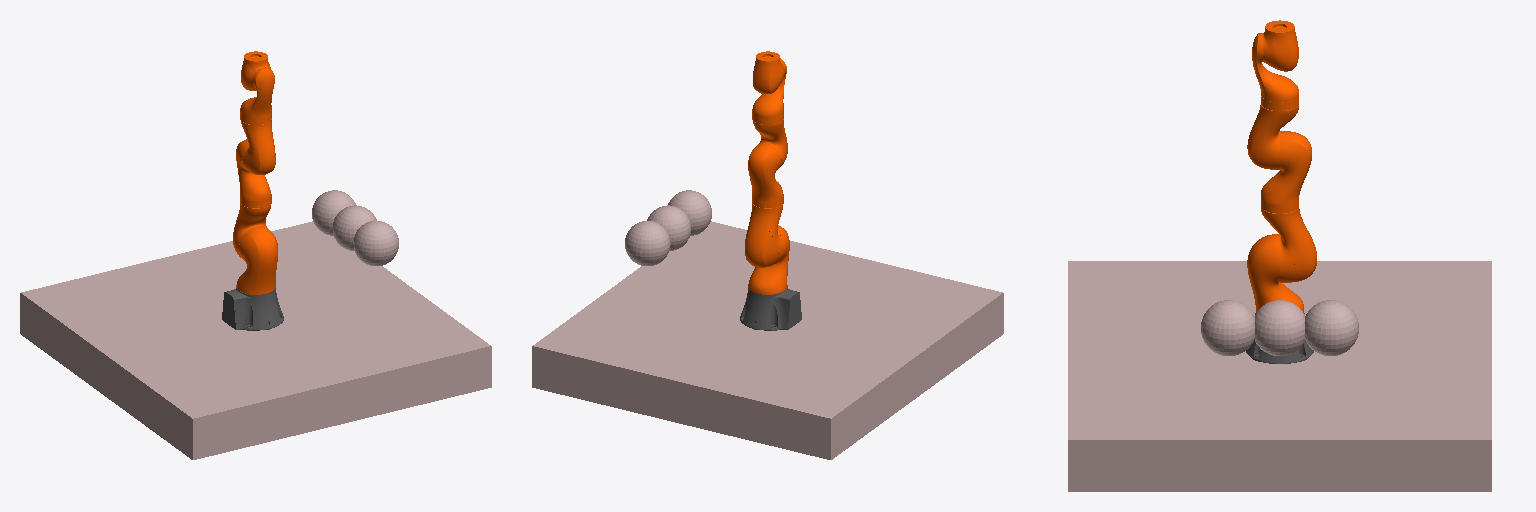
The robot description file, URDF, robot "KUKAiiwa14":
<?xml version="1.0"?>
<robot xmlns:xacro="http://www.ros.org/wiki/xacro" name="KUKAiiwa14">
  <mujoco>
    <compiler meshdir="../meshes/kuka" balanceinertia="false" discardvisual="true"/>
  </mujoco>
  <material name="Black">
    <color rgba="0.0 0.0 0.0 1.0"/>
  </material>
  <material name="Blue">
    <color rgba="0.0 0.0 0.8 1.0"/>
  </material>
  <material name="Green">
    <color rgba="0.0 0.8 0.0 1.0"/>
  </material>
  <material name="Grey">
    <color rgba="0.4 0.4 0.4 1.0"/>
  </material>
  <material name="Orange">
    <color rgba="1.0 0.4235294117647059 0.0392156862745098 1.0"/>
  </material>
  <material name="Brown">
    <color rgba="0.8705882352941177 0.8117647058823529 0.7647058823529411 1.0"/>
  </material>
  <material name="Red">
    <color rgba="0.8 0.0 0.0 1.0"/>
  </material>
  <material name="White">
    <color rgba="1.0 1.0 1.0 1.0"/>
  </material>
  <!-- Fix to world just for testing -->
  <link name="world"/>
  <!--joint between WORLD and BASE-->
  <joint name="A0" type="fixed">
    <origin rpy="0 0 0" xyz="0 0 0"/>
    <parent link="world"/>
    <child link="iiwa_base"/>
  </joint>
  <!-- BASE -->
  <link name="iiwa_base">
    <inertial>
      <origin rpy="0 0 0" xyz="0 0 0"/>
      <mass value="5"/>
      <inertia ixx="0.05" ixy="0" ixz="0" iyy="0.06" iyz="0" izz="0.03"/>
    </inertial>
    <visual>
      <origin rpy="0 0 0" xyz="0 0 0"/>
      <geometry>
        <mesh filename="package://meshes/kuka/iiwa_base.stl"/>
      </geometry>
      <material name="Grey"/>
    </visual>

 <collision>
	<origin xyz="0 0 0" rpy="0 0 0"/>
	<geometry>
	  <sphere radius=".09"/>
	</geometry>
      </collision>

  </link>
  <!-- joint between base and link1 -->
  <joint name="A1" type="revolute">
    <origin rpy="0.0 0.0 0.0" xyz="0.00000 0.00000 0.15750"/>
    <parent link="iiwa_base"/>
    <child link="L1"/>
    <axis xyz="0 0 1"/>
    <limit effort="320" lower="-2.96706" upper="2.96706" velocity="1.48353"/>
  </joint>
  <transmission name="iiwa_tran_1">
    <robotNamespace>/KUKAiiwa14</robotNamespace>
    <type>transmission_interface/SimpleTransmission</type>
    <joint name="A1">
      <hardwareInterface>PositionJointInterface</hardwareInterface>
    </joint>
    <actuator name="iiwa_motor_1">
      <hardwareInterface>PositionJointInterface</hardwareInterface>
      <mechanicalReduction>1</mechanicalReduction>
    </actuator>
  </transmission>
  <!-- LINK 1-->
  <link name="L1">
    <inertial>
      <origin xyz="0.00000 0.00000 0.00000"/>
      <mass value="3.94781"/>
      <inertia ixx="0.00455" ixy="0.00000" ixz="-0.00000" iyy="0.00454" iyz="-0.00001" izz="0.00029"/>
    </inertial>
    <visual>
      <origin rpy="0 0 0" xyz="0 0 0"/>
      <geometry>
        <mesh filename="package://meshes/kuka/iiwa_link_1.stl"/>
      </geometry>
      <material name="Orange"/>
    </visual>


 <collision>
	<origin xyz="0 0 0" rpy="0 0 0"/>
	<geometry>
	  <sphere radius=".05"/>
	</geometry>
      </collision>






  </link>
  <!-- joint between link1 and link2 -->
  <joint name="A2" type="revolute">
    <origin rpy="2.3561944901923457 -1.5707962635746238 2.3561944901923457" xyz="0.00000 0.00000 0.20250"/>
    <parent link="L1"/>
    <child link="L2"/>
    <axis xyz="0 0 1"/>
    <limit effort="320" lower="-2.0944" upper="2.0944" velocity="1.48353"/>
    <!-- <safety_controller soft_lower_limit="${-118 * PI / 180}"
                          soft_upper_limit="${118 * PI / 180}"
                          k_position="${safety_controller_k_pos}"
                          k_velocity="${safety_controller_k_vel}"/> 
      <dynamics damping="${joint_damping}"/> -->
  </joint>
  <!-- LINK 2-->
  <link name="L2">
    <inertial>
      <origin rpy="0 0 0" xyz="0.0003 0.059 0.042"/>
      <mass value="4.50275"/>
      <inertia ixx="0.00032" ixy="0" ixz="0" iyy="0.00010" iyz="0" izz="0.00042"/>
    </inertial>
    <visual>
      <origin rpy="0 0 0" xyz="0 0 0"/>
      <geometry>
        <mesh filename="package://meshes/kuka/iiwa_link_2.stl"/>
      </geometry>
      <material name="Orange"/>
    </visual>


 <collision>
	<origin xyz="0 0 0" rpy="0 0 0"/>
	<geometry>
	  <sphere radius=".05"/>
	</geometry>
      </collision>





  </link>
  <!-- joint between link2 and link3 -->
  <joint name="A3" type="revolute">
    <origin rpy="1.5707963267948948 -4.371139000186238E-8 1.5707963705062866" xyz="0.20450 0.00000 0.00000"/>
    <parent link="L2"/>
    <child link="L3"/>
    <axis xyz="0 0 1"/>
    <limit effort="176" lower="-2.96706" upper="2.96706" velocity="1.74533"/>
    <!-- <safety_controller soft_lower_limit="${-168 * PI / 180}"
                          soft_upper_limit="${168 * PI / 180}"
                          k_position="${safety_controller_k_pos}"
                          k_velocity="${safety_controller_k_vel}"/> 
      <dynamics damping="${joint_damping}"/> -->
  </joint>
  <!-- LINK 3-->
  <link name="L3">
    <inertial>
      <origin rpy="0 0 0" xyz="0 0.03 0.13"/>
      <mass value="2.45520"/>
      <inertia ixx="0.00223" ixy="-0.00005" ixz="0.00007" iyy="0.00219" iyz="0.00007" izz="0.00073"/>
    </inertial>
    <visual>
      <origin rpy="0 0 0" xyz="0 0 0"/>
      <geometry>
        <mesh filename="package://meshes/kuka/iiwa_link_3.stl"/>
      </geometry>
      <material name="Orange"/>
    </visual>



      <collision>
	<!-- <origin xyz="0 0 0.2" rpy="0 0 0"/> -->
	<geometry>
	  <!--mesh filename="package://lwr_description/meshes/convex/arm_segment_b_convex.stl"/-->
	  <sphere radius="0.05"/>
	</geometry>
      </collision>
  </link>
  <!-- joint between link3 and link4 -->
  <joint name="A4" type="revolute">
    <origin rpy="1.5707963705062866 -0.0 0.0" xyz="0.00000 0.00000 0.21550"/>
    <parent link="L3"/>
    <child link="L4"/>
    <axis xyz="0 0 1"/>
    <limit effort="176" lower="-2.0944" upper="2.0944" velocity="1.309"/>
    <!-- <safety_controller soft_lower_limit="${-118 * PI / 180}"
                          soft_upper_limit="${118 * PI / 180}"
                          k_position="${safety_controller_k_pos}"
                          k_velocity="${safety_controller_k_vel}"/> 
      <dynamics damping="${joint_damping}"/> -->
  </joint>
  <!-- LINK 4-->
  <link name="L4">
    <inertial>
      <origin rpy="0 0 0" xyz="0 0.067 0.034"/>
      <mass value="2.61155"/>
      <inertia ixx="0.03844" ixy="0.00088" ixz="-0.00112" iyy="0.01144" iyz="-0.00111" izz="0.04958"/>
    </inertial>
    <visual>
      <origin rpy="0 0 0" xyz="0 0 0"/>
      <geometry>
        <mesh filename="package://meshes/kuka/iiwa_link_4.stl"/>
      </geometry>
      <material name="Orange"/>
    </visual>

 <collision>
	<origin xyz="0 0 0" rpy="0 0 0"/>
	<geometry>
	  <sphere radius=".05"/>
	</geometry>
      </collision>




  </link>
  <!-- joint between link4 and link5 -->
  <joint name="A5" type="revolute">
    <origin rpy="-1.5707963705062866 0.0 -0.0" xyz="0.00000 0.18450 0.00000"/>
    <parent link="L4"/>
    <child link="L5"/>
    <axis xyz="0 0 1"/>
    <limit effort="110" lower="-2.96706" upper="2.96706" velocity="2.26893"/>
    <!-- <safety_controller soft_lower_limit="${-168 * PI / 180}"
                          soft_upper_limit="${168 * PI / 180}"
                          k_position="${safety_controller_k_pos}"
                          k_velocity="${safety_controller_k_vel}"/> 
      <dynamics damping="${joint_damping}"/> -->
  </joint>
  <!-- LINK 5-->
  <link name="L5">
    <inertial>
      <origin rpy="0 0 0" xyz="0.0001 0.021 0.076"/>
      <mass value="3.41000"/>
      <inertia ixx="0.00277" ixy="-0.00001" ixz="0.00001" iyy="0.00284" iyz="0" izz="0.00012"/>
    </inertial>
    <visual>
      <origin rpy="0 0 0" xyz="0 0 0"/>
      <geometry>
        <mesh filename="package://meshes/kuka/iiwa_link_5.stl"/>
      </geometry>
      <material name="Orange"/>
    </visual>


 <collision>
	<origin xyz="0 0 0" rpy="0 0 0"/>
	<geometry>
	  <sphere radius=".05"/>
	</geometry>
      </collision>


  </link>
  <!-- joint between link5 and link6 -->
  <joint name="A6" type="revolute">
    <origin rpy="2.3561944901923457 -1.5707962635746238 2.3561944901923457" xyz="0.00000 -0.06070 0.21550"/>
    <parent link="L5"/>
    <child link="L6"/>
    <axis xyz="0 0 1"/>
    <limit effort="40" lower="-2.0944" upper="2.0944" velocity="2.35619"/>
    <!-- <safety_controller soft_lower_limit="${-118 * PI / 180}"
                          soft_upper_limit="${118 * PI / 180}"
                          k_position="${safety_controller_k_pos}"
                          k_velocity="${safety_controller_k_vel}"/> 
      <dynamics damping="${joint_damping}"/> -->
  </joint>
  <!-- LINK 6-->
  <link name="L6">
    <inertial>
      <origin rpy="0 0 0" xyz="0 0.0006 0.0004"/>
      <mass value="3.38795"/>
      <inertia ixx="0.00050" ixy="-0.00005" ixz="-0.00003" iyy="0.00281" iyz="-0.00004" izz="0.00232"/>
    </inertial>
    <visual>
      <origin rpy="0 0 0" xyz="0 0 0"/>
      <geometry>
        <mesh filename="package://meshes/kuka/iiwa_link_6.stl"/>
      </geometry>
      <material name="Orange"/>
    </visual>


 <collision>
	<origin xyz="0 0 0" rpy="0 0 0"/>
	<geometry>
	  <sphere radius=".05"/>
	</geometry>
      </collision>


  </link>
  <!-- joint between link6 and link7 -->
  <joint name="A7" type="revolute">
    <origin rpy="1.5707963267948948 -4.371139000186238E-8 1.5707963705062866" xyz="0.08100 0.00000 0.06070"/>
    <parent link="L6"/>
    <child link="L7"/>
    <axis xyz="0 0 1"/>
    <limit effort="40" lower="-3.05433" upper="3.05433" velocity="2.35619"/>
    <!-- <safety_controller soft_lower_limit="${-173 * PI / 180}"
                          soft_upper_limit="${173 * PI / 180}"
                          k_position="${safety_controller_k_pos}"
                          k_velocity="${safety_controller_k_vel}"/> 
      <dynamics damping="${joint_damping}"/> -->
  </joint>
  <!-- LINK 7-->
  <link name="L7">
    <inertial>
      <origin rpy="0 0 0" xyz="0 0 0.02"/>
      <mass value="0.35432"/>
      <inertia ixx="0.00795" ixy="0.00022" ixz="-0.00029" iyy="0.01083" iyz="-0.00029" izz="0.00294"/>
    </inertial>
    <visual>
      <origin rpy="0 0 0" xyz="0 0 0"/>
      <geometry>
        <mesh filename="package://meshes/kuka/iiwa_link_7.stl"/>
      </geometry>
      <material name="Grey"/>
    </visual>

 <collision>
	<origin xyz="0 0 0" rpy="0 0 0"/>
	<geometry>
	  <sphere radius=".05"/>
	</geometry>
      </collision>

  </link>
  <!-- EE -->
  <joint name="EE" type="fixed">
    <parent link="L7"/>
    <child link="contact"/>
    <!-- Joint placement -->
    <origin rpy="0 0 0" xyz="0 0.0 0.04"/>
    <!-- Limits (usefull?) -->
    <limit effort="1000" lower="-10" upper="10" velocity="1000"/>
    <!-- pybullet simulation parameters -->
    <dynamics damping="0.0" friction="0.0"/>
  </joint>
  <!-- CONTACT (modeled by a tennis ball) -->
  <link name="contact">
    <inertial>
      <origin rpy="0 0 0" xyz="0 0 0.0"/>
      <mass value="0.057"/>
      <inertia ixx="0.0000354" ixy="0.0" ixz="0.0" iyy="0.0000354" iyz="0.0" izz="0.0000354"/>
    </inertial>
    <!-- <visual> -->
    <!--   <origin rpy="0 0 0" xyz="0 0 0"/> -->
    <!--   <geometry> -->
    <!--     <mesh filename="package://meshes/kuka/tennis_ball_smaller.obj"/> -->
    <!--   </geometry> -->
    <!--   <material name="grey"> -->
    <!--     <color rgba="0.8 0.8 0.8 1.0"/> -->
    <!--   </material> -->
    <!-- </visual> -->
    <!-- <collision> -->
    <!--   <origin rpy="0 0 0" xyz="0 0 0"/> -->
    <!--   <geometry> -->
    <!--     <mesh filename="package://meshes/kuka/tennis_ball_smaller.obj"/> -->
    <!--   </geometry> -->
    <!--   <material name="grey"> -->
    <!--     <color rgba="0.8 0.8 0.8 1.0"/> -->
    <!--   </material> -->
    <!-- </collision> -->
    <!-- Bullet specific paramters -->
    <contact>
      <lateral_friction value="1.0"/>
      <restitution value="0.5"/>
    </contact>

 <collision>
	<origin xyz="0 0 0" rpy="0 0 0"/>
	<geometry>
	  <sphere radius=".05"/>
	</geometry>
      </collision>


  </link>
  <!-- Enable the Joint Feedback -->
  <gazebo reference="KUKAiiwa14_joint_7">
    <provideFeedback>true</provideFeedback>
  </gazebo>
  <!-- The ft_sensor plugin -->
  <gazebo>
    <plugin filename="libgazebo_ros_ft_sensor.so" name="ft_sensor">
      <updateRate>50.0</updateRate>
      <topicName>/KUKAiiwa14/state/CartesianWrench</topicName>
      <jointName>KUKAiiwa14_joint_7</jointName>
    </plugin>
  </gazebo>
  <!-- Load Gazebo lib and set the robot namespace -->
  <gazebo>
    <plugin filename="libgazebo_ros_control.so" name="gazebo_ros_control">
      <robotNamespace>/KUKAiiwa14</robotNamespace>
    </plugin>
  </gazebo>
  <!-- Link0 -->
  <gazebo reference="KUKAiiwa14_base">
    <material>Gazebo/Grey</material>
    <mu1>0.2</mu1>
    <mu2>0.2</mu2>
  </gazebo>
  <!-- Link1 -->
  <gazebo reference="KUKAiiwa14_link1">
    <material>Gazebo/Orange</material>
    <mu1>0.2</mu1>
    <mu2>0.2</mu2>
  </gazebo>
  <!-- Link2 -->
  <gazebo reference="KUKAiiwa14_link2">
    <material>Gazebo/Orange</material>
    <mu1>0.2</mu1>
    <mu2>0.2</mu2>
  </gazebo>
  <!-- Link3 -->
  <gazebo reference="KUKAiiwa14_link3">
    <material>Gazebo/Orange</material>
    <mu1>0.2</mu1>
    <mu2>0.2</mu2>
  </gazebo>
  <!-- Link4 -->
  <gazebo reference="KUKAiiwa14_link4">
    <material>Gazebo/Orange</material>
    <mu1>0.2</mu1>
    <mu2>0.2</mu2>
  </gazebo>
  <!-- Link5 -->
  <gazebo reference="KUKAiiwa14_link5">
    <material>Gazebo/Orange</material>
    <mu1>0.2</mu1>
    <mu2>0.2</mu2>
  </gazebo>
  <!-- Link6 -->
  <gazebo reference="KUKAiiwa14_link6">
    <material>Gazebo/Orange</material>
    <mu1>0.2</mu1>
    <mu2>0.2</mu2>
  </gazebo>
  <!-- Link7 -->
  <gazebo reference="KUKAiiwa14_link7">
    <material>Gazebo/Grey</material>
    <mu1>0.2</mu1>
    <mu2>0.2</mu2>
  </gazebo>
  <!-- OBSTACLES -->
  <link name="obstacle1">
    <visual>
      <geometry>
        <sphere radius=".1"/>
      </geometry>
      <material name="custom">
        <color rgba="0.8 0.7 0.7 0.5"/>
      </material>
    </visual>
    <collision>
      <geometry>
        <sphere radius=".1"/>
      </geometry>
      <material name="custom">
        <color rgba="0.8 0.7 0.7 0.5"/>
      </material>
    </collision>
  </link>
  <link name="obstacle2">
    <visual>
      <geometry>
        <sphere radius=".1"/>
      </geometry>
      <material name="custom">
        <color rgba="0.8 0.7 0.7 0.5"/>
      </material>
    </visual>
    <collision>
      <geometry>
        <sphere radius=".1"/>
      </geometry>
      <material name="custom">
        <color rgba="0.8 0.7 0.7 0.5"/>
      </material>
    </collision>
  </link>
  <link name="obstacle3">
    <visual>
      <geometry>
        <sphere radius=".1"/>
      </geometry>
      <material name="custom">
        <color rgba="0.8 0.7 0.7 0.5"/>
      </material>
    </visual>
    <collision>
      <geometry>
        <sphere radius=".1"/>
      </geometry>
      <material name="custom">
        <color rgba="0.8 0.7 0.7 0.5"/>
      </material>
    </collision>
  </link>
  <joint name="obstacle1_joint" type="fixed">
    <parent link="world"/>
    <child link="obstacle1"/>
    <origin rpy="0 0 0" xyz="0.50 0.18 0.32"/>
  </joint>
  <joint name="obstacle2_joint" type="fixed">
    <parent link="world"/>
    <child link="obstacle2"/>
    <origin rpy="0 0 0" xyz="0.50 0.00 0.32"/>
  </joint>
  <joint name="obstacle3_joint" type="fixed">
    <parent link="world"/>
    <child link="obstacle3"/>
    <origin rpy="0 0 0" xyz="0.50 -0.18 0.32"/>
  </joint>

  <joint name="table_joint" type="fixed">
    <parent link="world"/>
    <child link="table"/>
    <origin rpy="0 0 0" xyz="0. 0. -.1"/>
    </joint>

  <link name="table">
    <visual>
      <geometry>
	<box  size="1.5 1.5 .2"/>
      </geometry>
      <material name="custom">
        <color rgba="0.8 0.7 0.7 0.5"/>
      </material>
    </visual>


    <collision>
      <geometry>
	<box  size="1.5 1.5 .2"/>
      </geometry>
      <material name="custom">
        <color rgba="0.8 0.7 0.7 0.5"/>
      </material>
    </collision>

  </link>




  <!-- OBSTACLES = [np.array([0.50, 0.18, 0.32]),  -->
  <!--              np.array([0.50, 0.00, 0.32]), -->
  <!--              np.array([0.50, -0.18, 0.32])] -->
  <!-- <xacro:iiwa_transmission hardware_interface="${hardware_interface}"/> -->
</robot>

--- Render facts (derived) ---
3 views of the same robot in one strip: view 1: azimuth 30°, elevation 25°; view 2: azimuth 150°, elevation 25°; view 3: azimuth 270°, elevation 25° (orthographic).
Model KUKAiiwa14 with 14 links and 13 joints (7 revolute, 6 fixed), rooted at world, posed all joints at 0.
Links seen in each view (by area): view 1: table, L1, iiwa_base, obstacle3, L4, L5, L3, obstacle2, obstacle1, L2, L6; view 2: table, iiwa_base, L2, L3, obstacle1, L1, obstacle2, obstacle3, L6, L5, L4; view 3: table, L3, obstacle1, obstacle3, L2, obstacle2, L1, L4, L5, L6, iiwa_base.
Link boxes in pixels (left/top/right/bottom): table: left=20, top=221, right=491, bottom=459; L1: left=237, top=226, right=277, bottom=294; iiwa_base: left=222, top=285, right=283, bottom=330; obstacle3: left=353, top=221, right=398, bottom=265; L4: left=240, top=119, right=275, bottom=174; L5: left=240, top=68, right=274, bottom=124; L3: left=236, top=139, right=271, bottom=207; obstacle2: left=333, top=205, right=376, bottom=250; obstacle1: left=312, top=190, right=355, bottom=235; L2: left=233, top=203, right=271, bottom=260; L6: left=241, top=51, right=270, bottom=90; table: left=532, top=221, right=1003, bottom=459; iiwa_base: left=740, top=285, right=801, bottom=330; L2: left=745, top=203, right=784, bottom=267; L3: left=748, top=142, right=783, bottom=207; obstacle1: left=625, top=221, right=670, bottom=265; L1: left=748, top=225, right=789, bottom=294; obstacle2: left=647, top=205, right=690, bottom=250; obstacle3: left=668, top=190, right=711, bottom=235; L6: left=753, top=51, right=784, bottom=93; L5: left=752, top=58, right=786, bottom=124; L4: left=752, top=119, right=787, bottom=169; table: left=1068, top=261, right=1491, bottom=491; L3: left=1261, top=131, right=1311, bottom=213; obstacle1: left=1305, top=300, right=1358, bottom=355; obstacle3: left=1201, top=300, right=1254, bottom=355; L2: left=1261, top=208, right=1316, bottom=282; obstacle2: left=1255, top=300, right=1304, bottom=355; L1: left=1247, top=234, right=1303, bottom=312; L4: left=1247, top=105, right=1298, bottom=169; L5: left=1252, top=33, right=1298, bottom=110; L6: left=1263, top=20, right=1298, bottom=71; iiwa_base: left=1246, top=313, right=1313, bottom=363.
Bounding box of the posed robot: 1.5 × 1.5 × 1.46 m (x, y, z).
7 mesh visuals loaded from 8 distinct referenced files (7 binary STL); not drawn: 1 (reference not matched to a file when rendering).